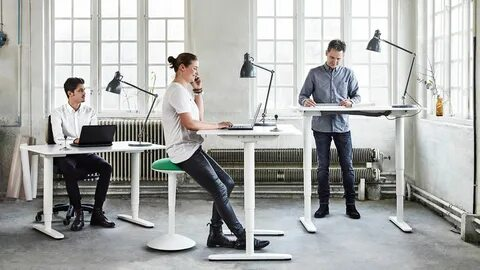awake: (162, 52, 271, 249), (299, 39, 362, 220), (50, 77, 116, 230)
